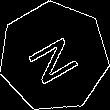N_NE: (22, 27, 86, 87)
